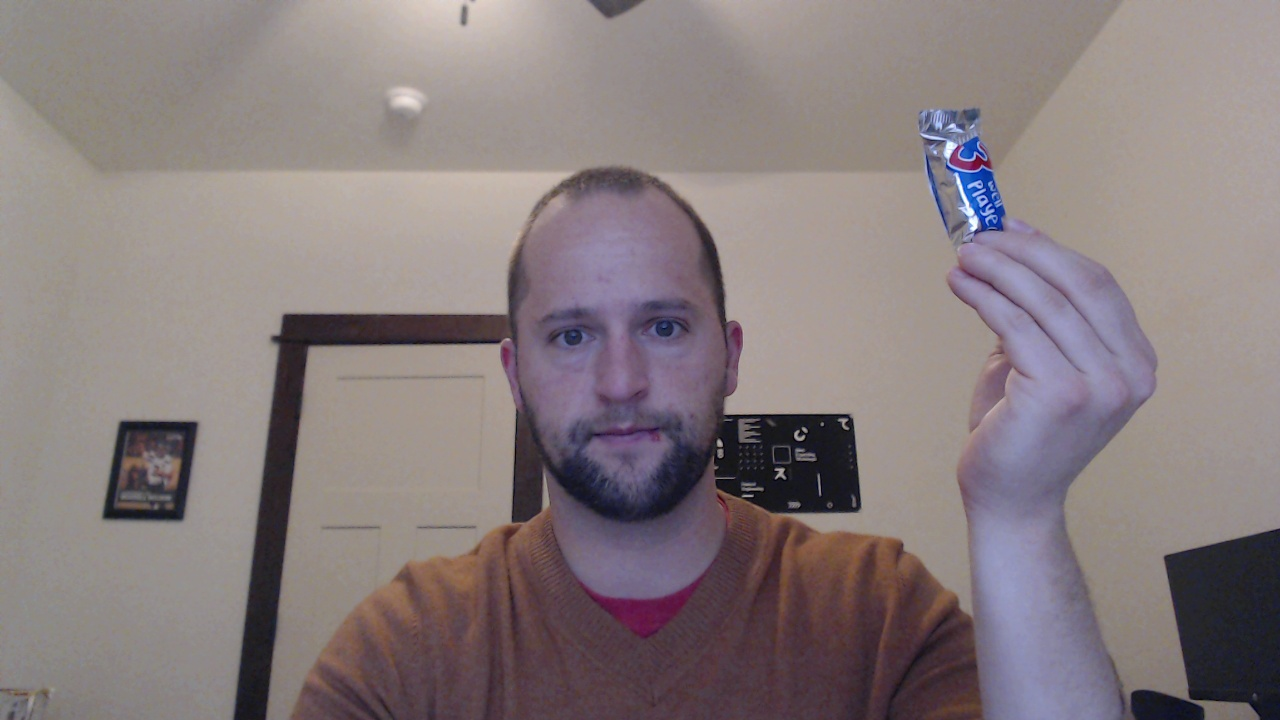three_musketeers: (894, 88, 1029, 257)
